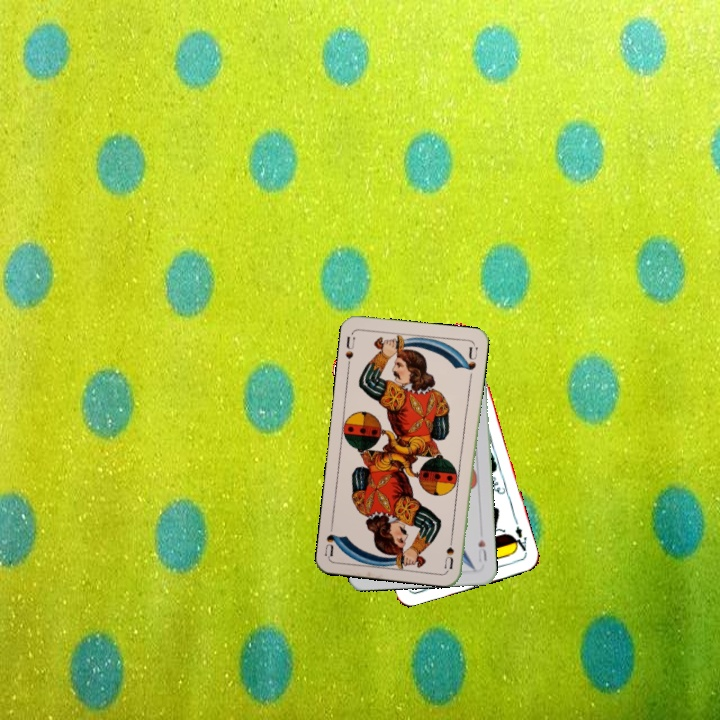EA: (508, 522, 530, 557)
HU: (474, 535, 489, 565)
SU: (440, 530, 457, 571), (341, 332, 358, 370)
